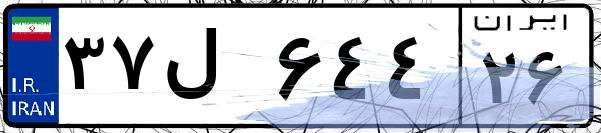2: (475, 38, 525, 113)
3: (57, 26, 110, 100)
4: (385, 28, 445, 110), (330, 28, 385, 110)
6: (270, 28, 330, 110), (525, 38, 570, 115)
7: (110, 28, 158, 98)
ل: (158, 20, 270, 120)
